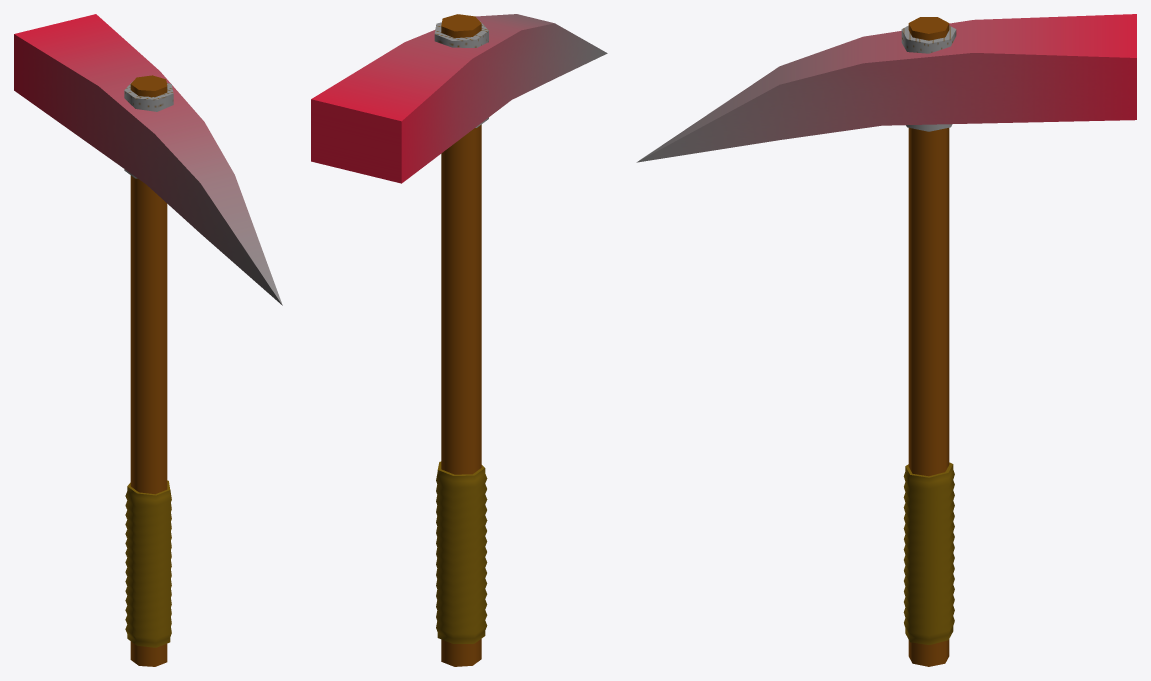
Rendered from tsuruhashi.fbx.
The picture shows the model from 3 angles, left to right: view 1: azimuth 30°, elevation 25°; view 2: azimuth 150°, elevation 25°; view 3: azimuth 270°, elevation 25°; orthographic projection. The views are drawn at different scales.
Visible parts, largest first — view 1: pCube1, pCylinder1, pCylinder3, pCylinder4; view 2: pCube1, pCylinder1, pCylinder3, pCylinder4; view 3: pCube1, pCylinder1, pCylinder3, pCylinder4.
Boxes of the visible parts, x1=… form: pCube1: x1=14, y1=14, x2=282, y2=305; pCylinder1: x1=130, y1=75, x2=167, y2=666; pCylinder3: x1=125, y1=480, x2=171, y2=647; pCylinder4: x1=124, y1=81, x2=173, y2=178; pCube1: x1=311, y1=14, x2=607, y2=183; pCylinder1: x1=441, y1=14, x2=481, y2=666; pCylinder3: x1=436, y1=461, x2=487, y2=643; pCylinder4: x1=434, y1=21, x2=488, y2=127; pCube1: x1=636, y1=14, x2=1136, y2=162; pCylinder1: x1=908, y1=17, x2=949, y2=666; pCylinder3: x1=903, y1=462, x2=954, y2=644; pCylinder4: x1=901, y1=25, x2=956, y2=131.
Size of the model in its own units: 8.18 by 54.82 by 39.32.
